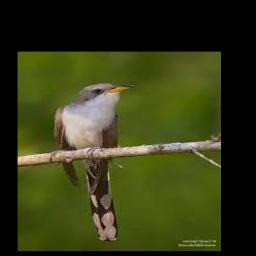Cuckoo: (55, 84, 137, 241)
